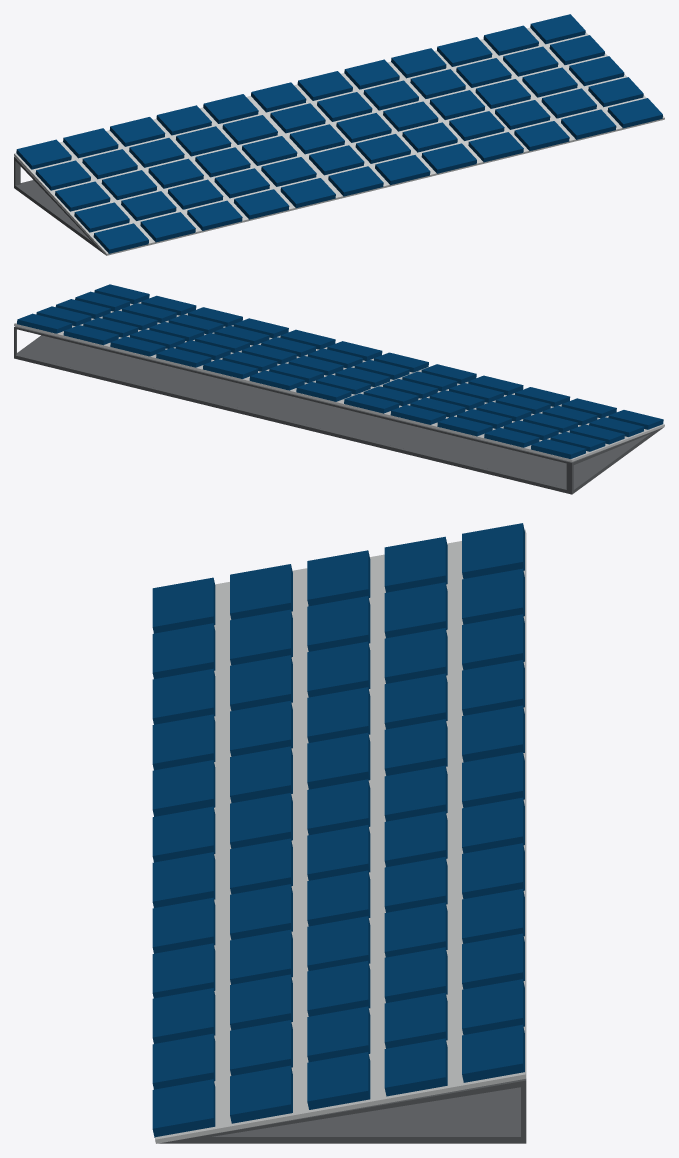
File: solar-panel-5x12-small.glb
3 renders of one model, top to bottom at view 1: azimuth 30°, elevation 25°; view 2: azimuth 150°, elevation 25°; view 3: azimuth 270°, elevation 25°, orthographic. The views are drawn at different scales.
Parts seen in each view (by area): view 1: Mesh_Mesh_head_geo.001_lambert2SG.001; view 2: Mesh_Mesh_head_geo.001_lambert2SG.001; view 3: Mesh_Mesh_head_geo.001_lambert2SG.001.
Boxes of the visible parts, x1,y1,x2,y2 form: Mesh_Mesh_head_geo.001_lambert2SG.001: [14, 14, 664, 255]; Mesh_Mesh_head_geo.001_lambert2SG.001: [14, 284, 664, 494]; Mesh_Mesh_head_geo.001_lambert2SG.001: [152, 523, 526, 1143].
Bounding box in the file's own units: 369 × 24.65 × 107.
